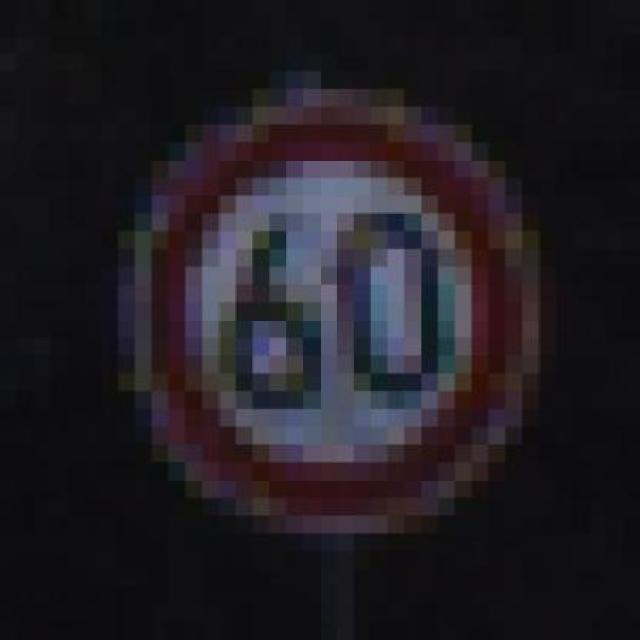forb_speed_over_60: (148, 103, 523, 519)
